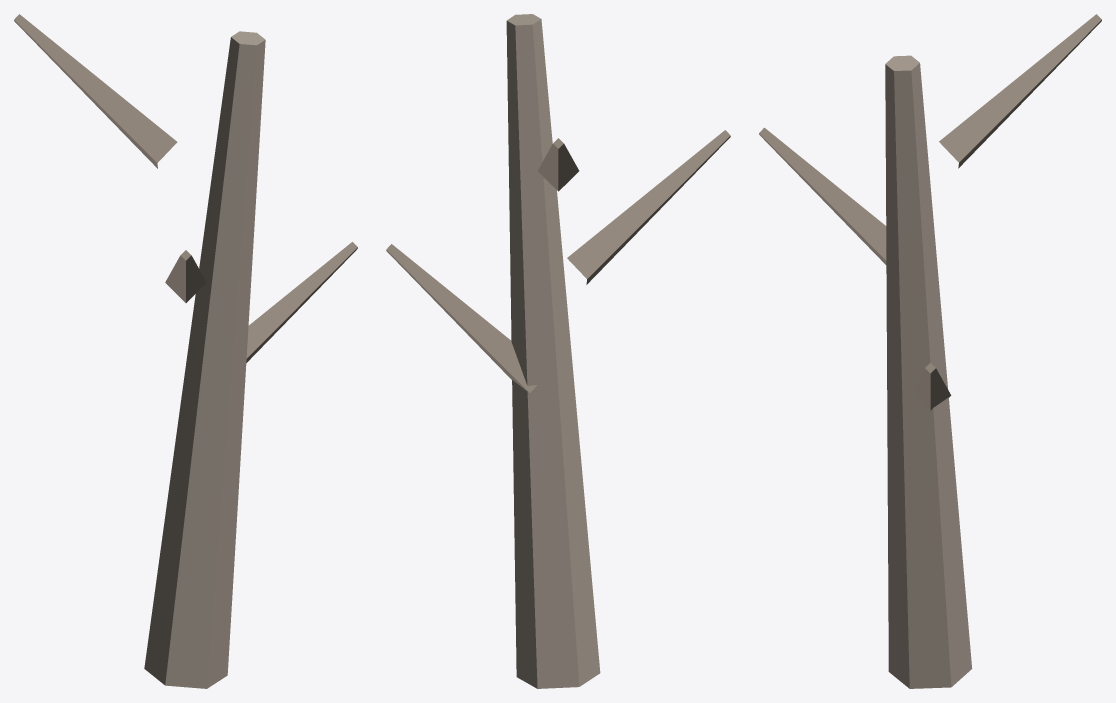
Rendered from deadtree_v24.glb.
The picture shows the model from 3 angles, left to right: view 1: azimuth 30°, elevation 25°; view 2: azimuth 150°, elevation 25°; view 3: azimuth 270°, elevation 25°; orthographic projection.
Visible parts, largest first — view 1: lod0; view 2: lod0; view 3: lod0.
Part boxes in pixels (<box>): lod0: <box>14,14,357,688</box>; lod0: <box>386,14,730,688</box>; lod0: <box>759,14,1101,688</box>.
Size of what is drawn, in the model's own units: 1.38 by 3.22 by 1.58.
